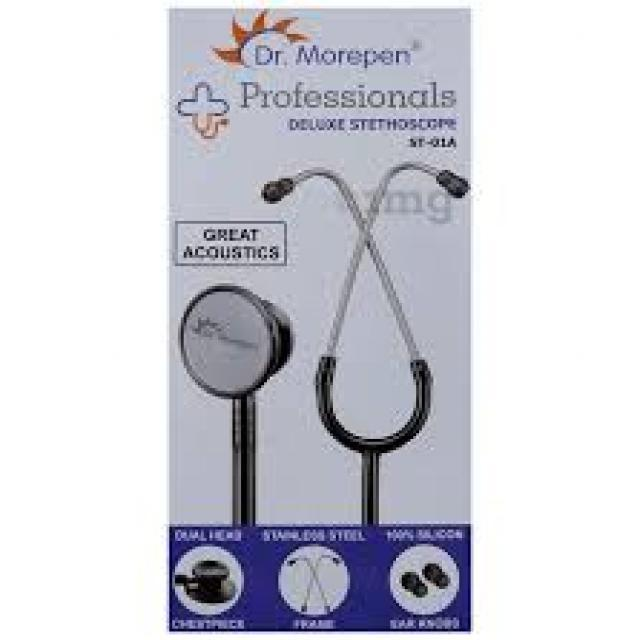stethoscope: (194, 150, 457, 503)
